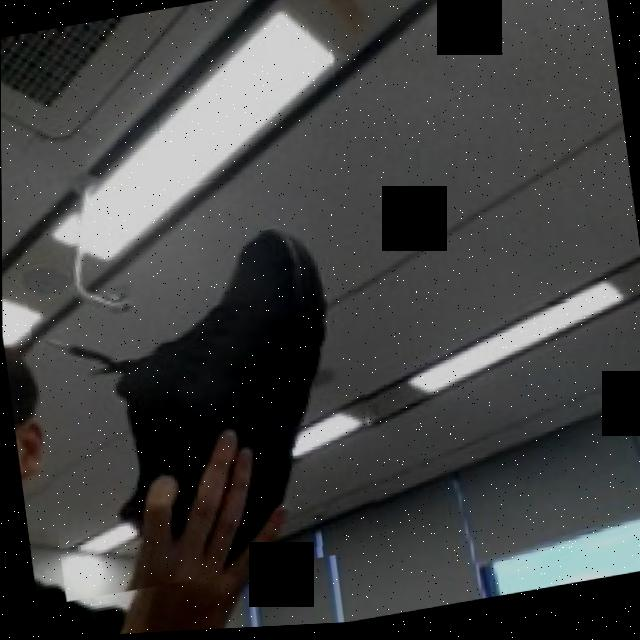shoe: (14, 152, 391, 604)
